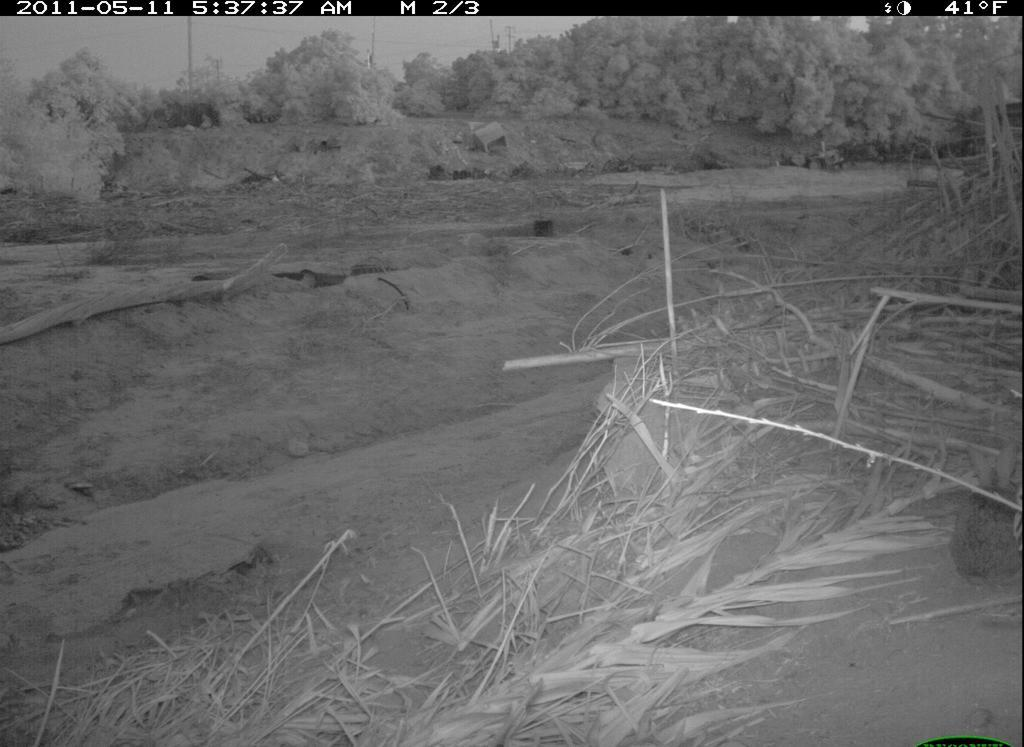rabbit: (944, 437, 1019, 596)
